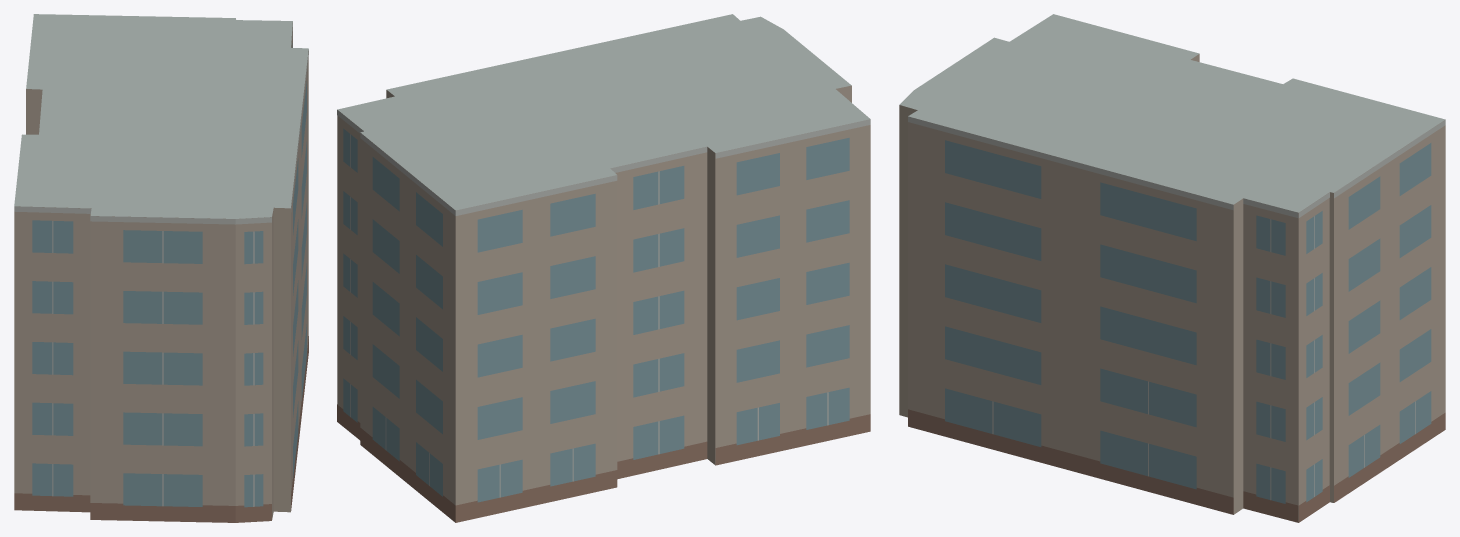
File: survey-upis-32707422.glb
The picture shows the model from 3 angles, left to right: view 1: azimuth 30°, elevation 25°; view 2: azimuth 150°, elevation 25°; view 3: azimuth 270°, elevation 25°; orthographic projection. The views are drawn at different scales.
Visible parts, largest first — view 1: survey-upis-32707422.tmp; view 2: survey-upis-32707422.tmp; view 3: survey-upis-32707422.tmp.
Boxes of the visible parts, x1,y1,x2,y2 form: survey-upis-32707422.tmp: [14, 14, 308, 522]; survey-upis-32707422.tmp: [337, 14, 870, 522]; survey-upis-32707422.tmp: [899, 14, 1445, 522].
Size of the model in its own units: 18.48 by 13.45 by 21.47.
